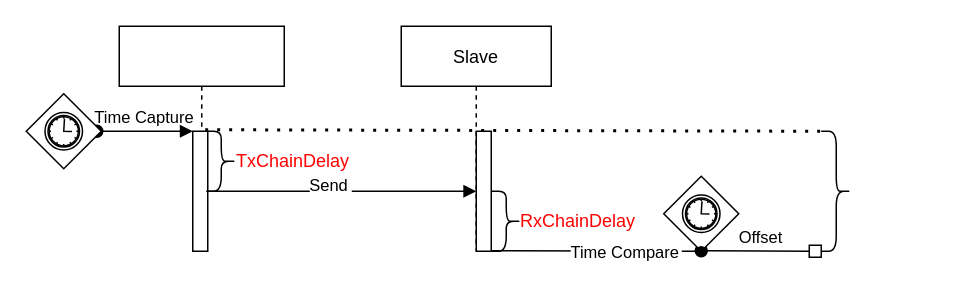
The diagram is 977 pixels wide and 294 high, and some of its shapes have lost their labels. Here are the shapes that lost their labels. From the top down, the box of each, then its label:
(118, 25, 284, 251): Master
(820, 130, 851, 251): TimeSync-Error
